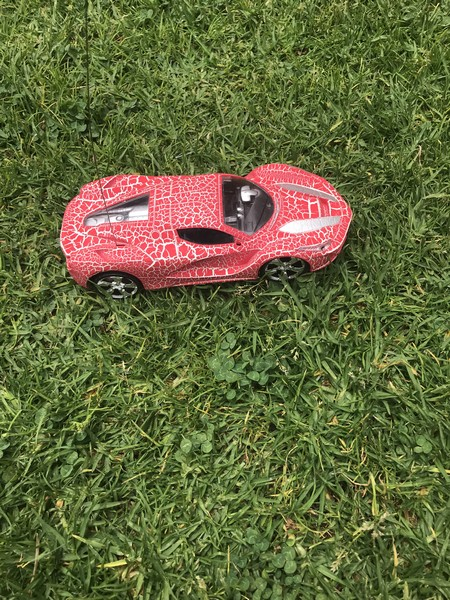RC: (56, 161, 353, 300)
